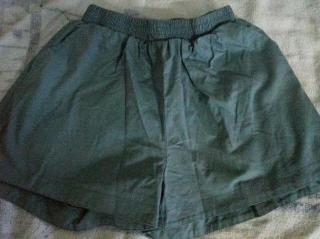shorts: (0, 4, 319, 239)
